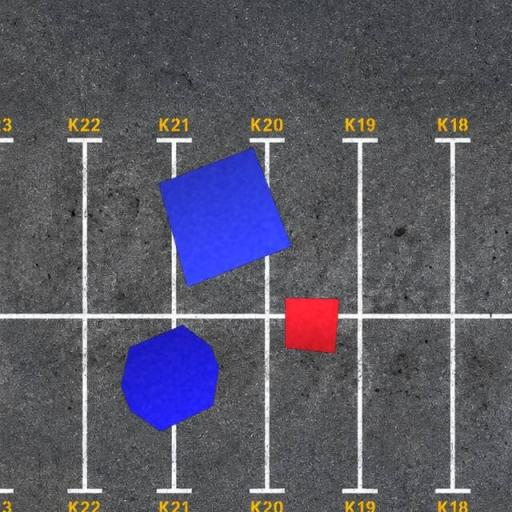BLUE_SQUARE: (158, 147, 292, 288)
RED_SQUARE: (284, 296, 340, 354)
